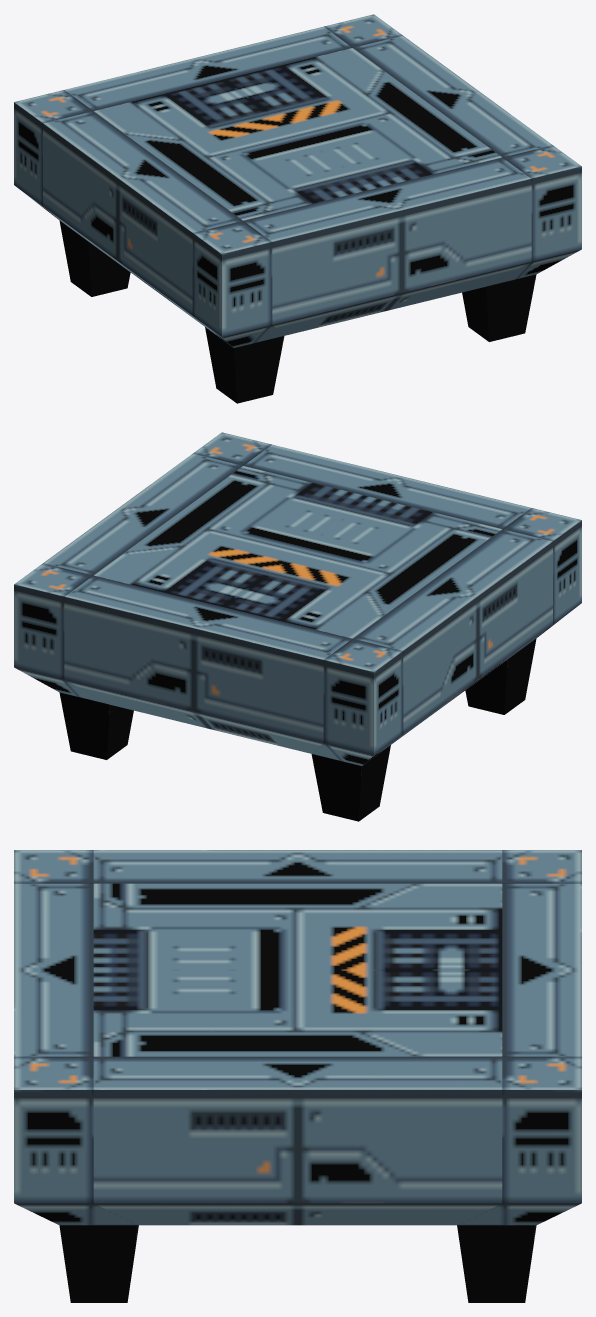
The model's file is FloatingPlatform_1x1_Metal.fbx.
3 renders of one model, top to bottom at view 1: azimuth 30°, elevation 25°; view 2: azimuth 150°, elevation 25°; view 3: azimuth 270°, elevation 25°, orthographic. The views are drawn at different scales.
Visible parts, largest first — view 1: Platform, Thrusters; view 2: Platform, Thrusters; view 3: Platform, Thrusters.
Boxes of the visible parts, x1,y1,x2,y2 form: Platform: (14,14,581,347); Thrusters: (59,220,536,403); Platform: (14,432,581,765); Thrusters: (59,638,536,821); Platform: (14,850,581,1225); Thrusters: (59,1225,536,1302).
Size of the model in its own units: 25 by 11.5 by 25.
